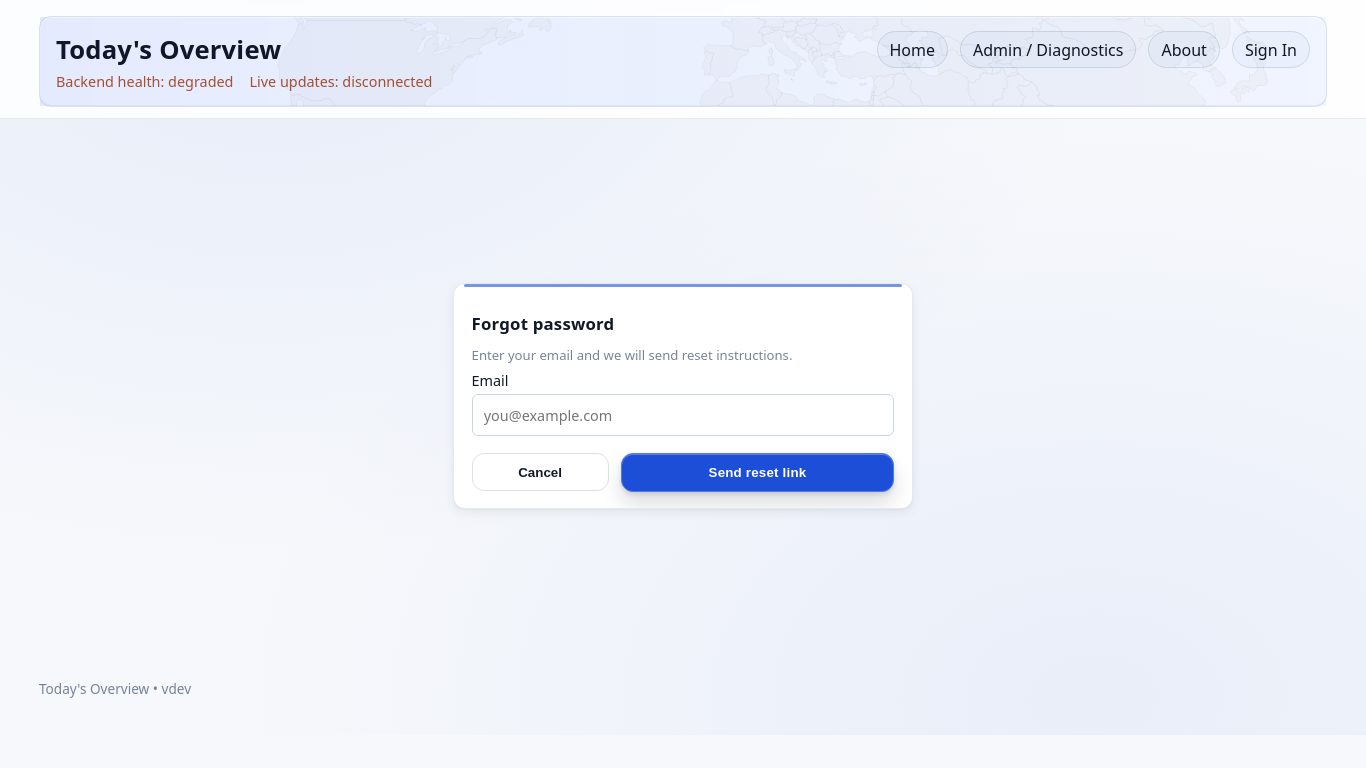
Test case: App › shows forgot password notice in the auth card and not in the header
This screenshot has width=1366, height=768.
In the field labelled "Email": (683, 415) [472,394,894,436], type "user@example.com"
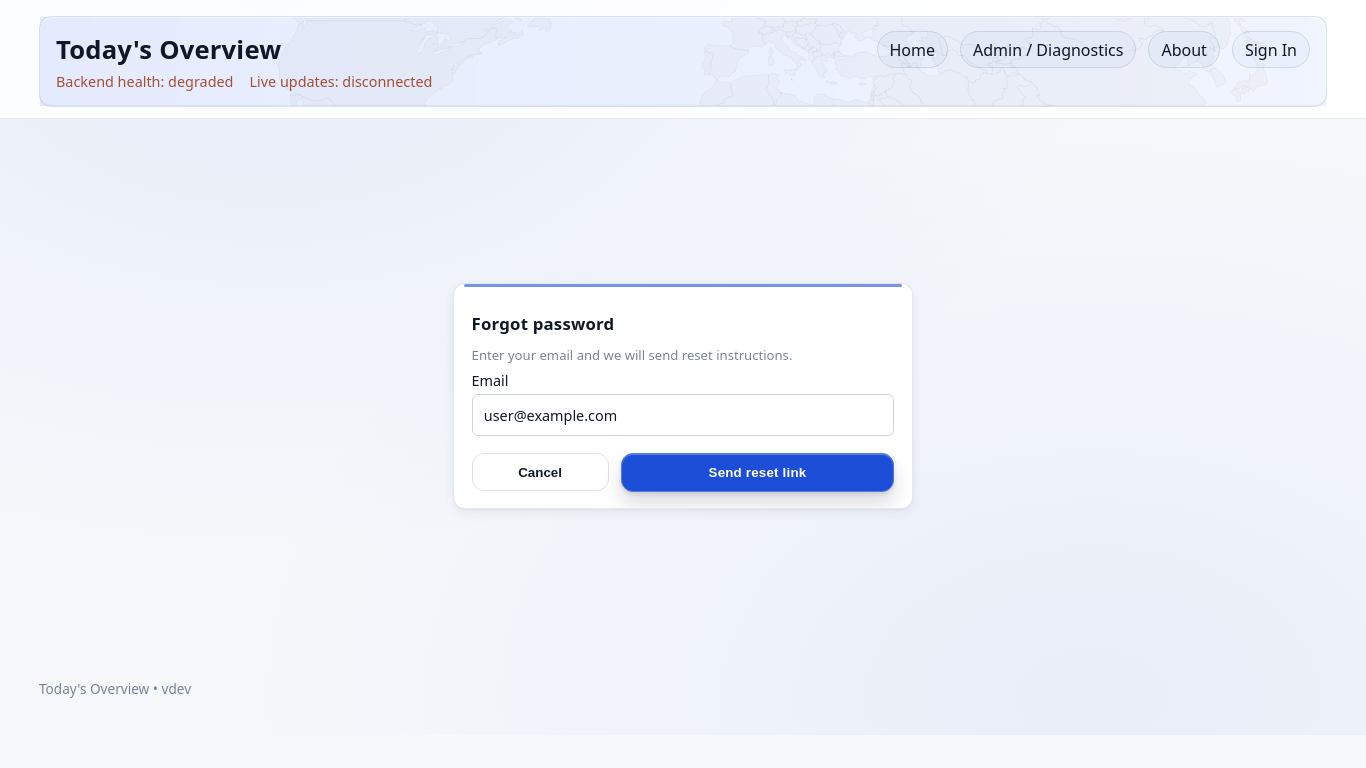
Click the button "Send reset link": click(757, 472) [620,453,894,492]
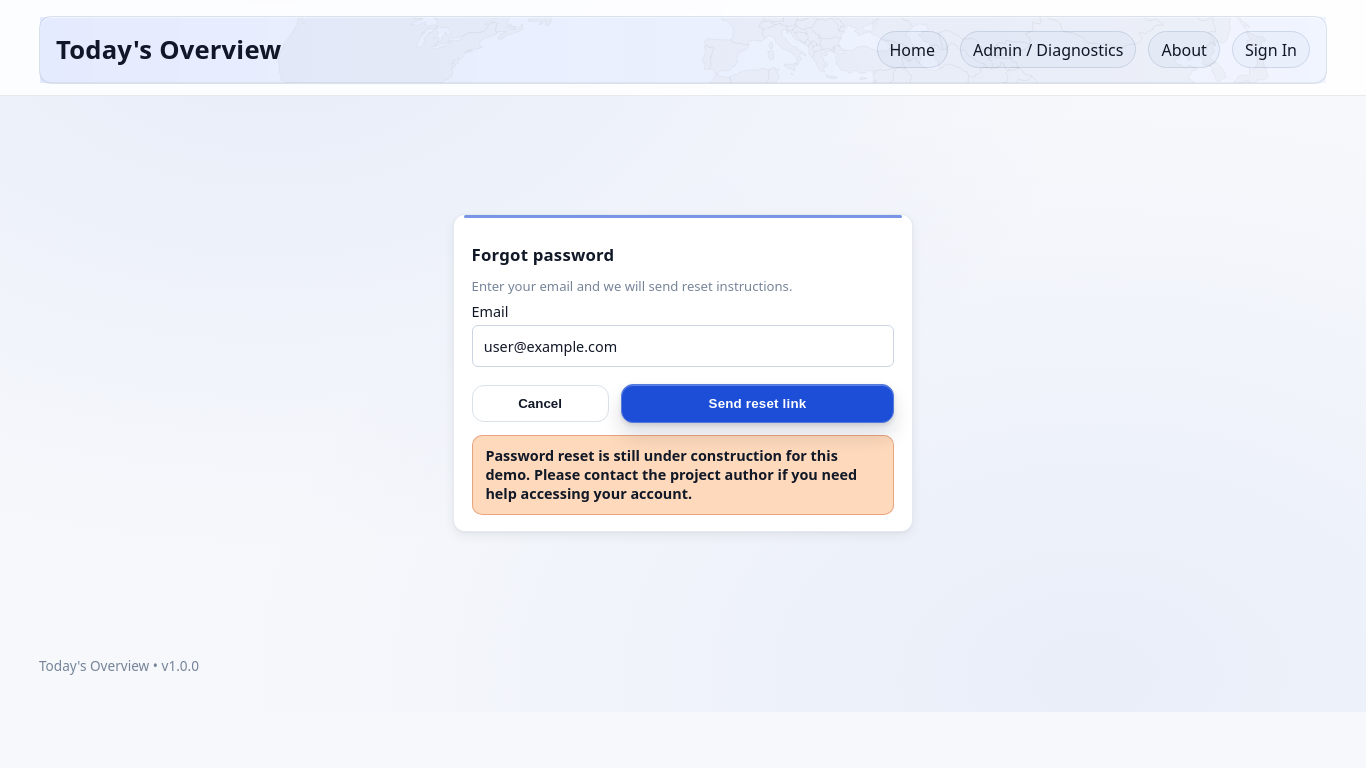
expect the text "Password reset is still under construction for this demo. Please contact the project author if you need help accessing y" is shown: met, box [485,446,857,504]
